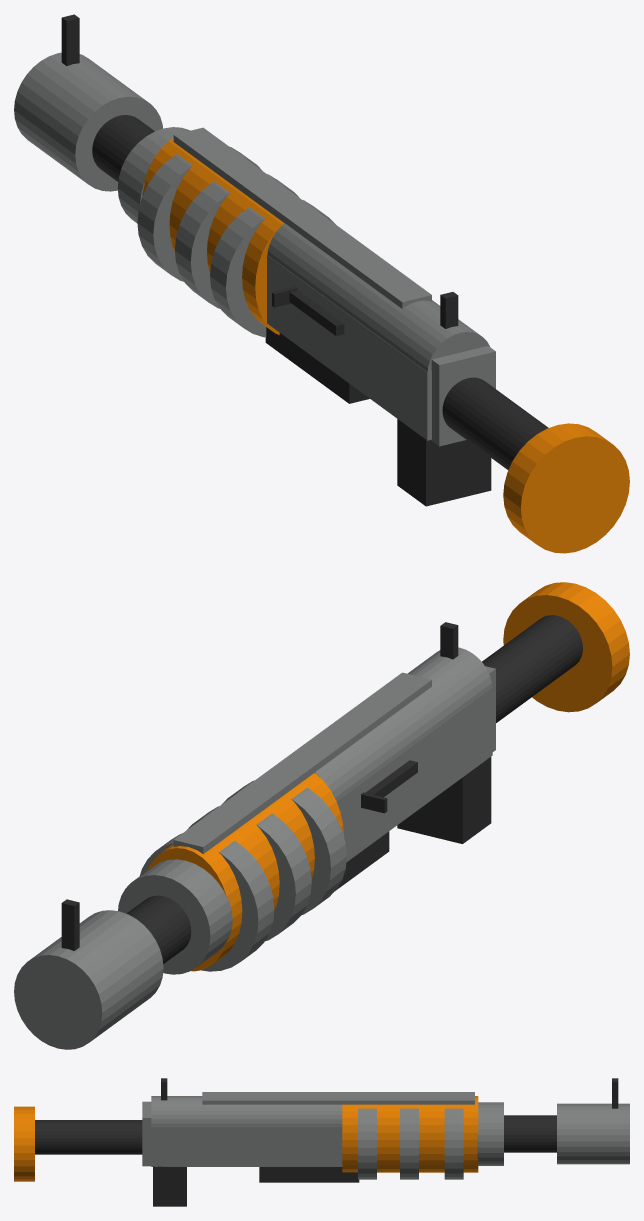
The model's file is GunModel.fbx.
The picture shows the model from 3 angles, top to bottom: view 1: azimuth 30°, elevation 25°; view 2: azimuth 150°, elevation 25°; view 3: azimuth 270°, elevation 25°; orthographic projection. The views are drawn at different scales.
Visible parts, largest first — view 1: Cylinder.009, Cylinder.008, Cube, Cylinder, Cube.008, Cylinder.002, Cube.004, Cylinder.001, Cylinder.005, Cylinder.003, Cylinder.004, Cube.001 (+5 smaller); view 2: Cylinder.008, Cube, Cube.008, Cylinder.009, Cylinder, Cylinder.002, Cylinder.006, Cylinder.001, Cube.004, Cylinder.003, Cylinder.004, Cylinder.005 (+5 smaller); view 3: Cube, Cylinder.002, Cylinder, Cylinder.008, Cylinder.001, Cube.008, Cylinder.007, Cylinder.006, Cylinder.009, Cube.005, Cylinder.003, Cylinder.004 (+4 smaller).
Boxes of the visible parts, <box> form: Cylinder.009: <box>503,423,629,553</box>; Cylinder.008: <box>14,52,162,191</box>; Cube: <box>267,255,431,440</box>; Cylinder: <box>267,223,489,372</box>; Cube.008: <box>173,127,431,308</box>; Cylinder.002: <box>142,138,284,335</box>; Cube.004: <box>397,419,491,506</box>; Cylinder.001: <box>442,377,548,469</box>; Cylinder.005: <box>210,200,335,337</box>; Cylinder.003: <box>137,147,262,281</box>; Cylinder.004: <box>174,174,299,308</box>; Cube.001: <box>431,346,495,446</box>; Cylinder.008: <box>14,910,163,1049</box>; Cube: <box>336,687,492,862</box>; Cube.008: <box>173,672,431,854</box>; Cylinder.009: <box>503,582,629,712</box>; Cylinder: <box>314,647,492,800</box>; Cylinder.002: <box>147,773,343,971</box>; Cylinder.006: <box>118,859,232,974</box>; Cylinder.001: <box>482,615,582,722</box>; Cube.004: <box>397,757,491,843</box>; Cylinder.003: <box>140,833,274,971</box>; Cylinder.004: <box>187,806,311,941</box>; Cylinder.005: <box>221,780,346,914</box>; Cube: <box>151,1126,342,1166</box>; Cylinder.002: <box>342,1096,478,1172</box>; Cylinder: <box>151,1096,342,1125</box>; Cylinder.008: <box>557,1103,629,1164</box>; Cylinder.001: <box>35,1120,142,1154</box>; Cube.008: <box>202,1092,474,1104</box>; Cylinder.007: <box>504,1115,556,1152</box>; Cylinder.006: <box>477,1102,503,1165</box>; Cylinder.009: <box>14,1106,34,1181</box>; Cube.005: <box>259,1167,359,1182</box>; Cylinder.003: <box>444,1108,463,1179</box>; Cylinder.004: <box>400,1108,418,1179</box>.
Bounding box in the file's own units: 371 × 575 × 2744.
